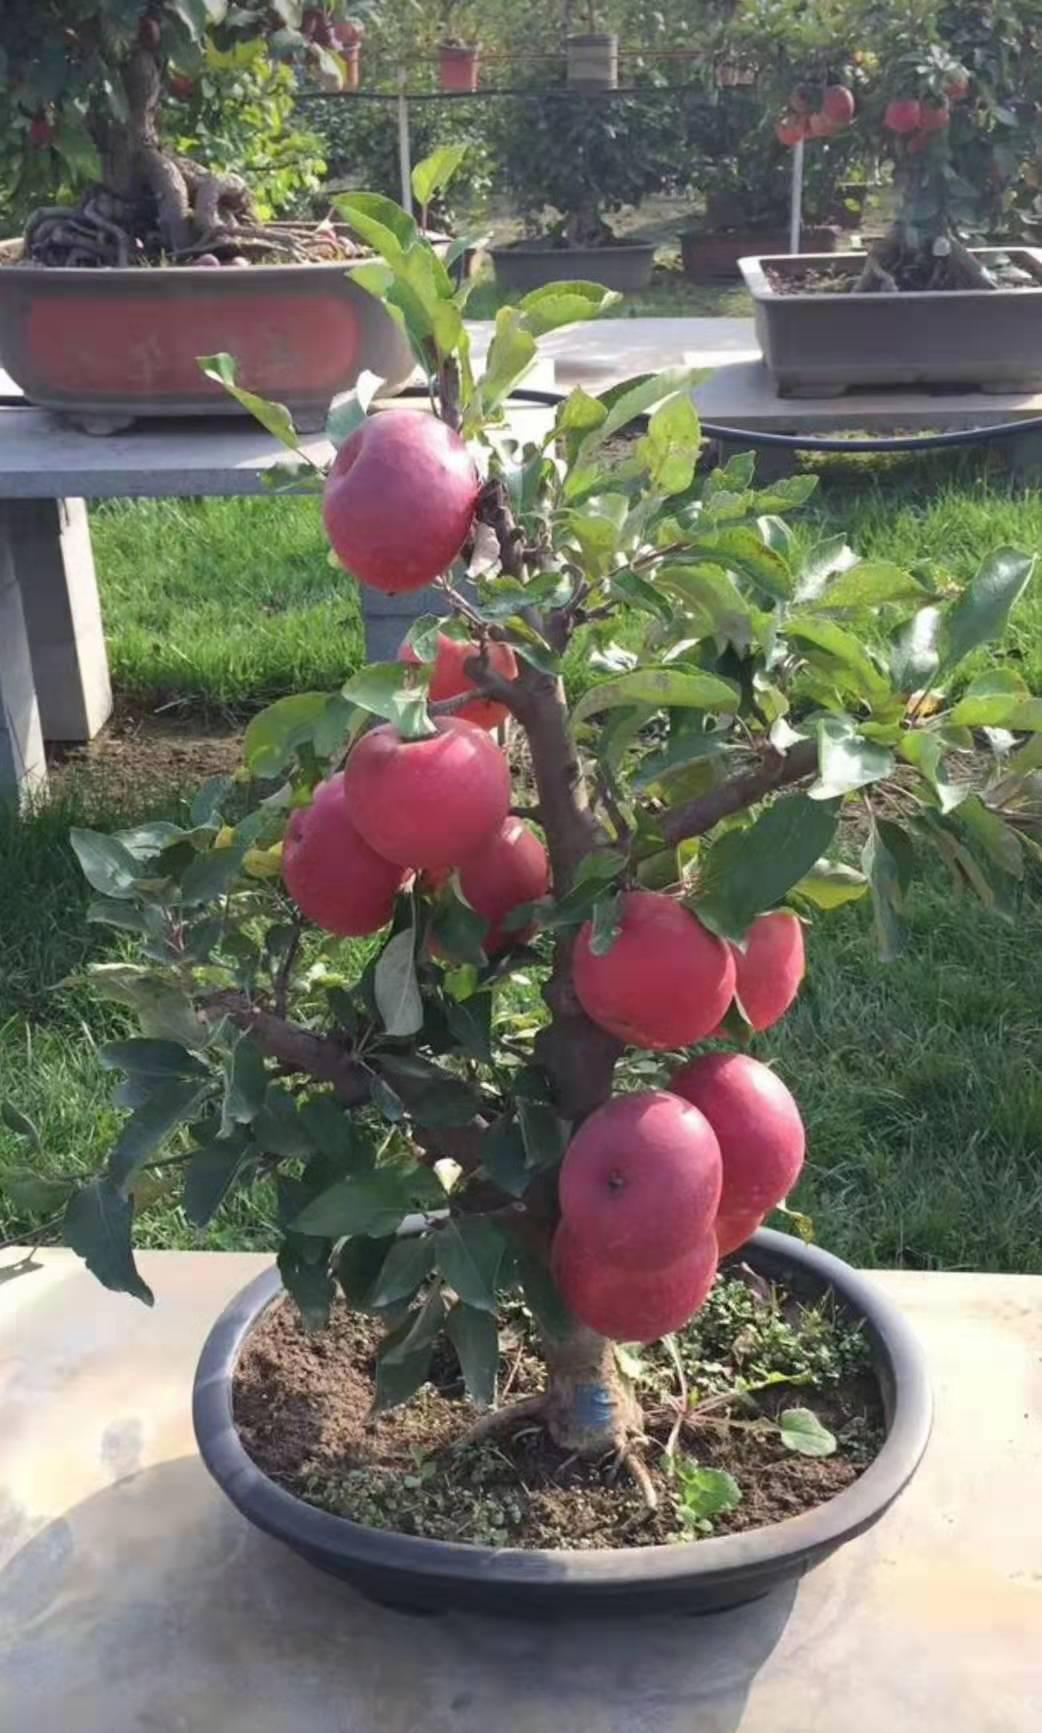apple: (321, 404, 481, 595), (549, 1091, 721, 1266), (569, 883, 734, 1057), (343, 719, 514, 873), (678, 1053, 808, 1221), (541, 1229, 714, 1346), (280, 779, 397, 938)
